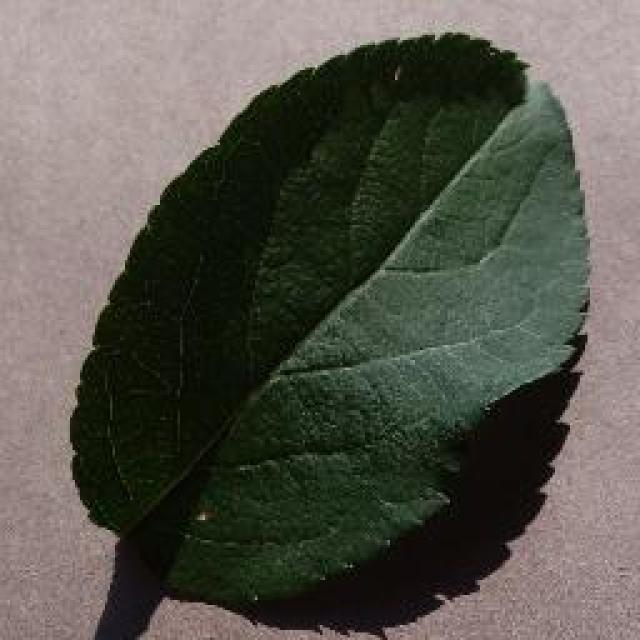apple healthy: (68, 28, 592, 608)
